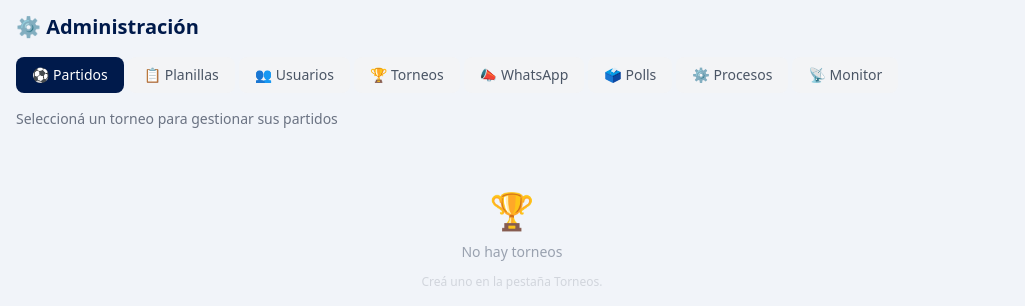
Test case: Admin — paginación de usuarios › no muestra controles de paginación cuando hay una sola página
Click the button "👥 Usuarios".
click(294, 75)  # box [239, 57, 350, 93]
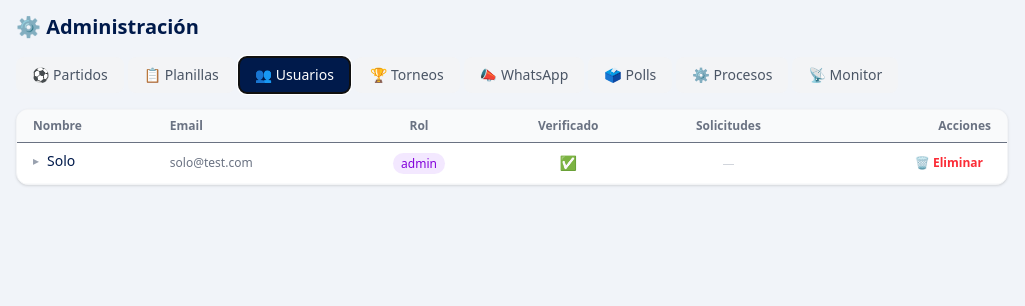
Now the text "Solo" is shown, box [47, 151, 75, 170]
